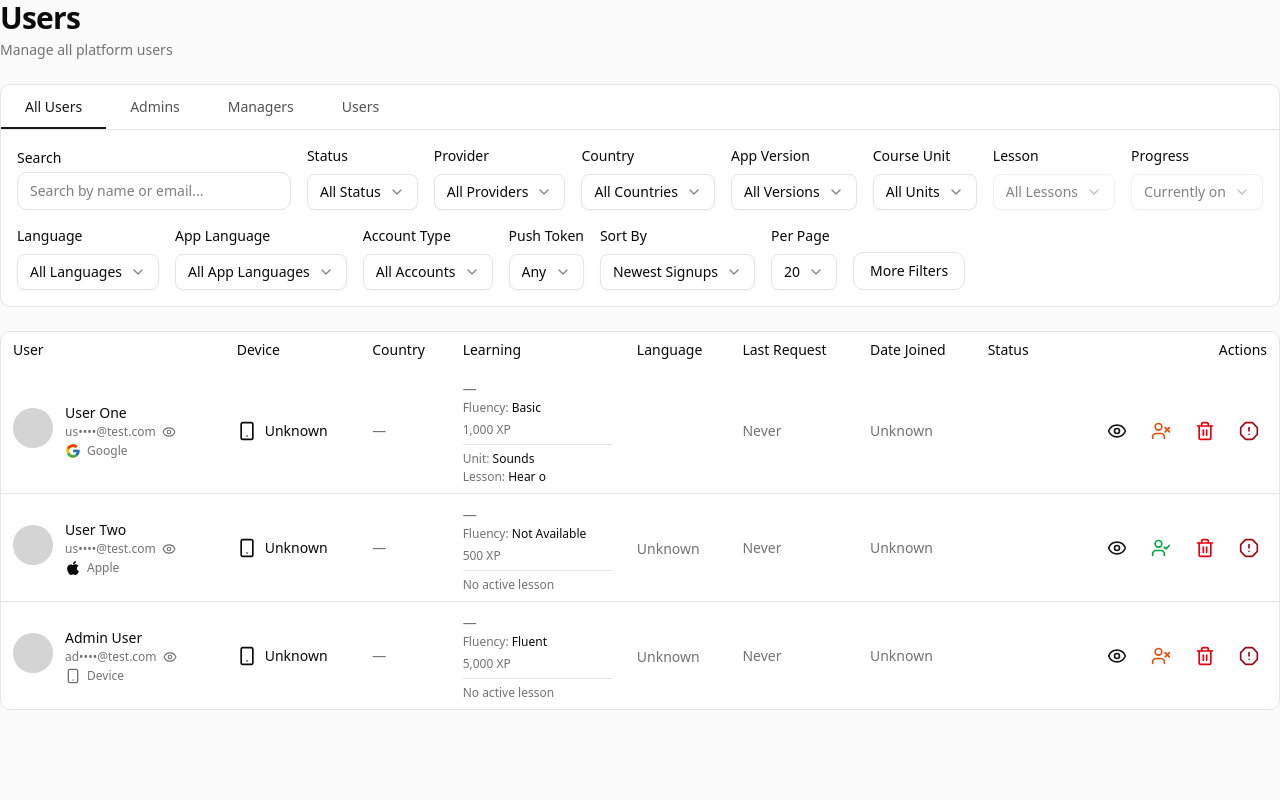
Test: UsersPage › User Actions › closes modal on cancel
Open modal
Click the button named "Deactivate User One" at (1161, 430), box [1143, 412, 1179, 448]
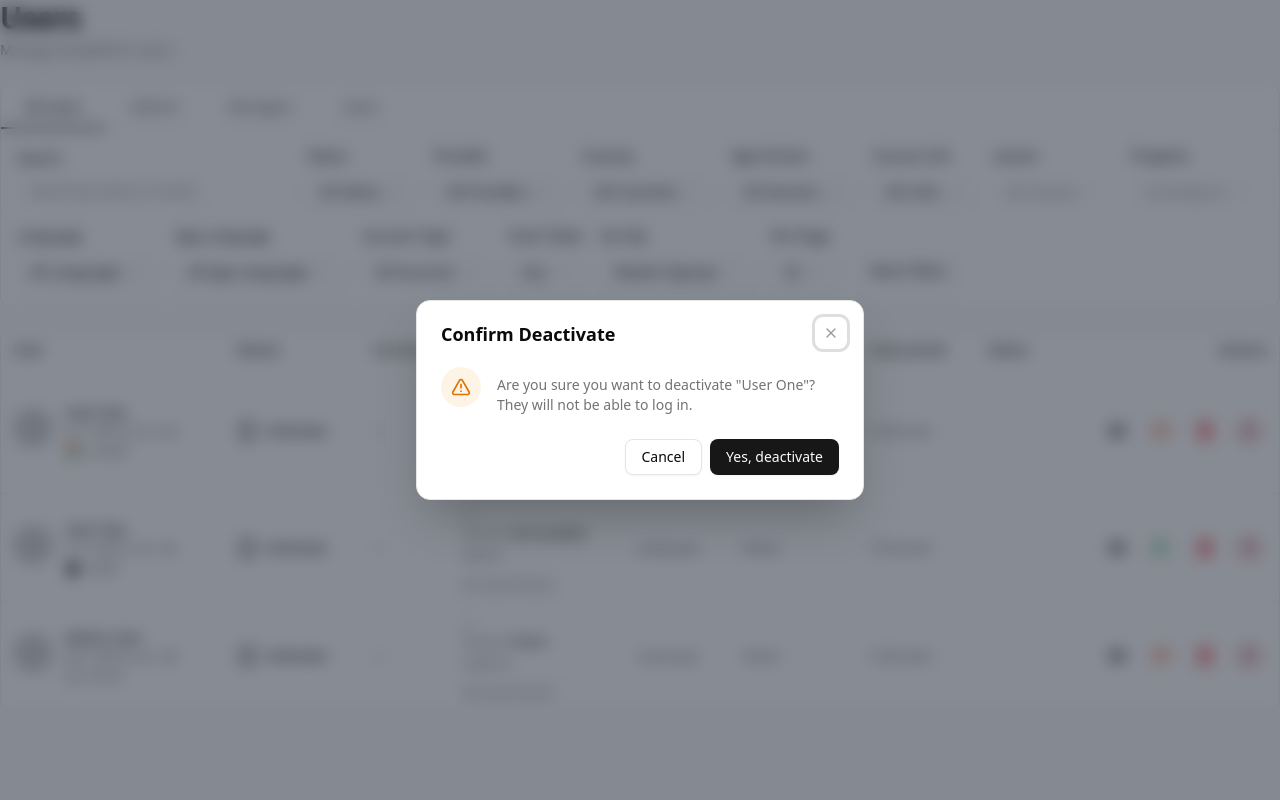
Expected: the heading "Confirm Deactivate" is shown, [441, 322, 615, 346]
Click cancel
Click the button "Cancel" at (663, 457), box [624, 439, 702, 475]
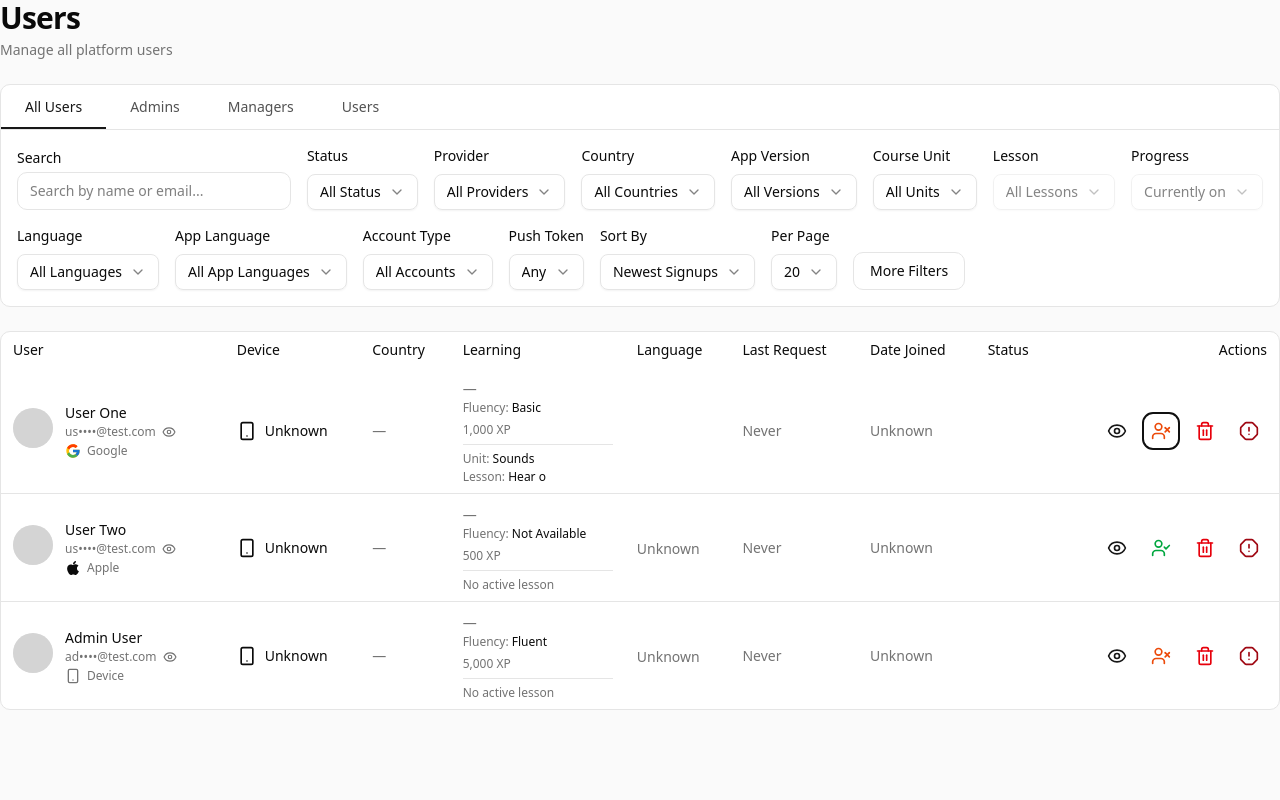
Expected: the heading "Confirm Deactivate" is gone
